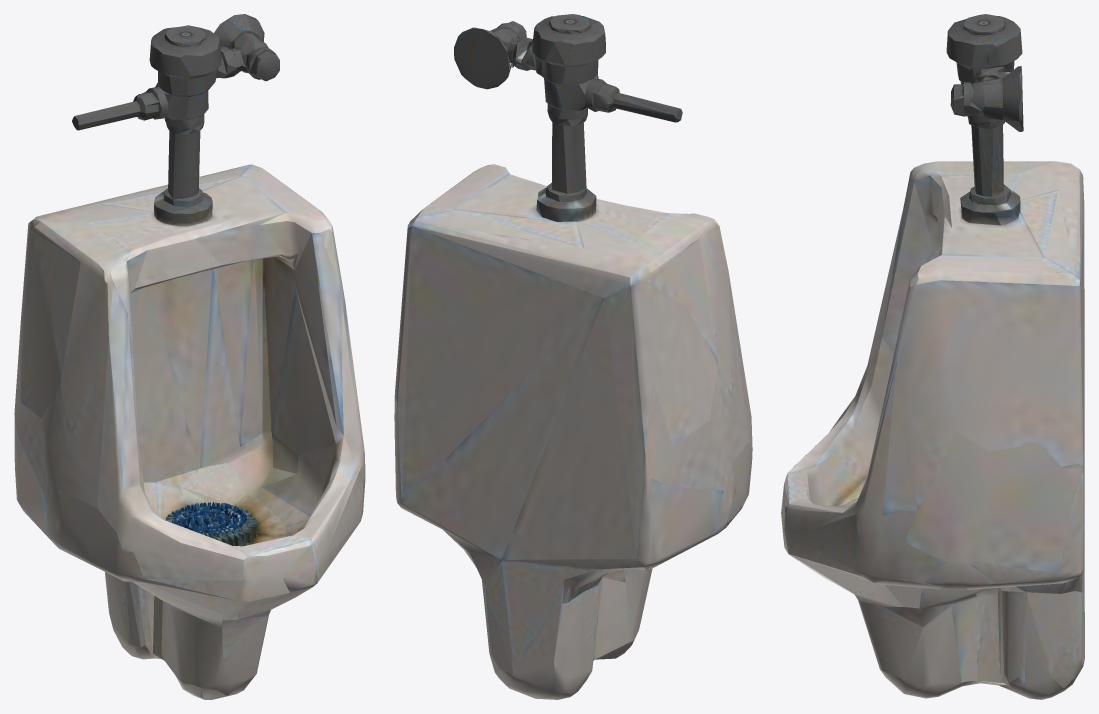
The model's file is urinal.glb.
3 views of the same model, side by side, from view 1: azimuth 30°, elevation 25°; view 2: azimuth 150°, elevation 25°; view 3: azimuth 270°, elevation 25° (orthographic). The views are drawn at different scales.
Bounding box in the file's own units: 0.8979 × 1.9 × 0.7829.
1 material, 1 textured.
